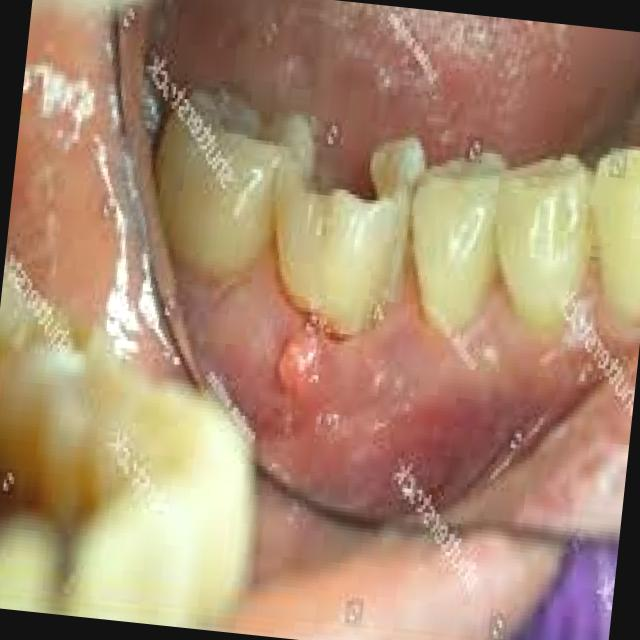abscess: (258, 304, 351, 411)
